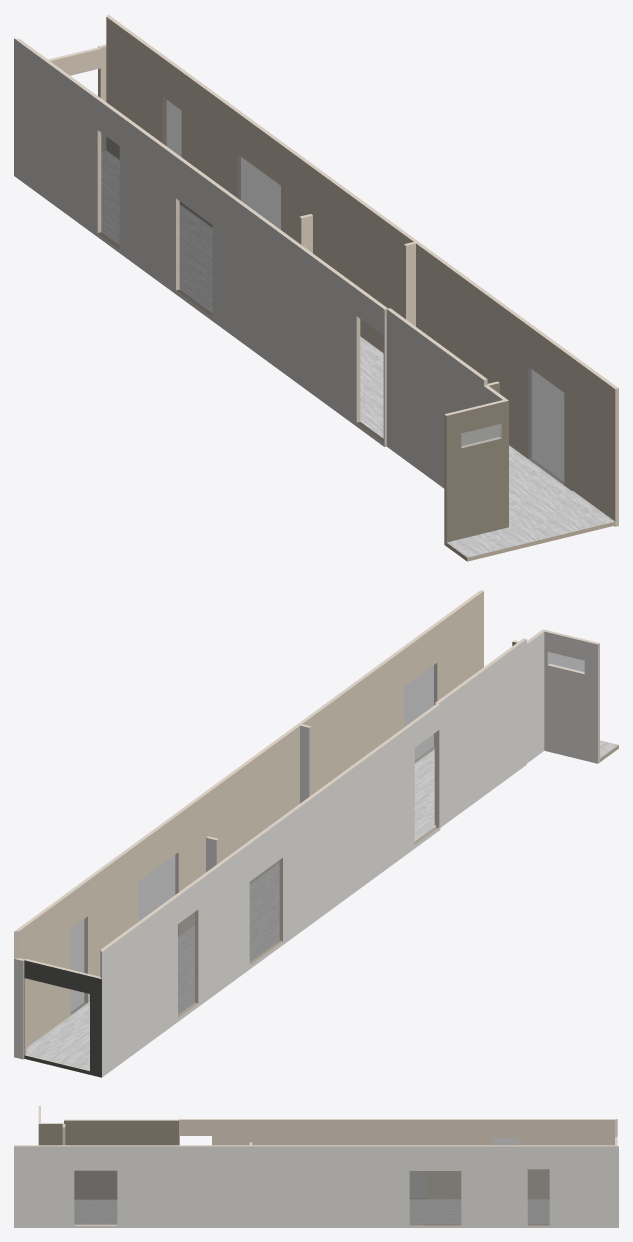
File: Sikora Hallway Connector1.fbx
3 views of the same model, one above another, from view 1: azimuth 30°, elevation 25°; view 2: azimuth 150°, elevation 25°; view 3: azimuth 270°, elevation 25° (orthographic). The views are drawn at different scales.
Parts seen in each view (by area): view 1: wall_9 (×3), wall_3 (×3), wall_4 (×3), wall_7, floor_Other_1, wall_0, door_4 (×2), door_3 (×2), floor_Other_2 (×2), door_1 (×2), door_2 (×2), door_0 (×2) (+2 smaller); view 2: wall_9 (×3), wall_3 (×3), wall_4 (×2), wall_7, floor_Other_1, wall_0, door_3 (×2), door_4 (×2), door_1 (×2), door_2 (×2), wall_10, door_0 (×2) (+3 smaller); view 3: wall_3 (×2), wall_4 (×2), wall_9 (×2), door_1 (×2), door_4 (×2), wall_7 (×2), floor_Other_1, door_0 (×2), wall_6.
Boxes of the visible parts, x1,y1,x2,y2 form: wall_9 (×3): (14, 38, 387, 446); wall_3 (×3): (106, 14, 419, 352); wall_4 (×3): (416, 242, 618, 526); wall_7: (386, 309, 483, 488); floor_Other_1: (101, 150, 571, 506); wall_0: (446, 400, 508, 542); door_4 (×2): (528, 367, 563, 484); door_3 (×2): (180, 202, 212, 312); floor_Other_2 (×2): (446, 491, 615, 561); door_1 (×2): (237, 154, 280, 229); door_2 (×2): (101, 133, 119, 244); door_0 (×2): (163, 97, 181, 156); wall_9 (×3): (100, 703, 440, 1077); wall_3 (×3): (14, 723, 301, 1047); wall_4 (×2): (299, 590, 483, 794); wall_7: (438, 639, 526, 827); floor_Other_1: (26, 749, 435, 1069); wall_0: (544, 631, 597, 763); door_3 (×2): (250, 860, 279, 961); door_4 (×2): (404, 663, 436, 762); door_1 (×2): (139, 853, 178, 920); door_2 (×2): (178, 912, 194, 1014); wall_10: (24, 960, 101, 1077); door_0 (×2): (71, 916, 87, 1014); wall_3 (×2): (249, 1145, 618, 1227); wall_4 (×2): (14, 1145, 249, 1227); wall_9 (×2): (179, 1119, 616, 1198); door_1 (×2): (410, 1171, 460, 1224); door_4 (×2): (74, 1171, 116, 1224); wall_7 (×2): (64, 1119, 178, 1199); floor_Other_1: (74, 1199, 549, 1223); door_0 (×2): (528, 1169, 549, 1224); wall_6: (38, 1124, 62, 1145).
Bounding box in the file's own units: 4.02 × 3.48 × 23.44.
Materials: 27 (2 with a texture image).
